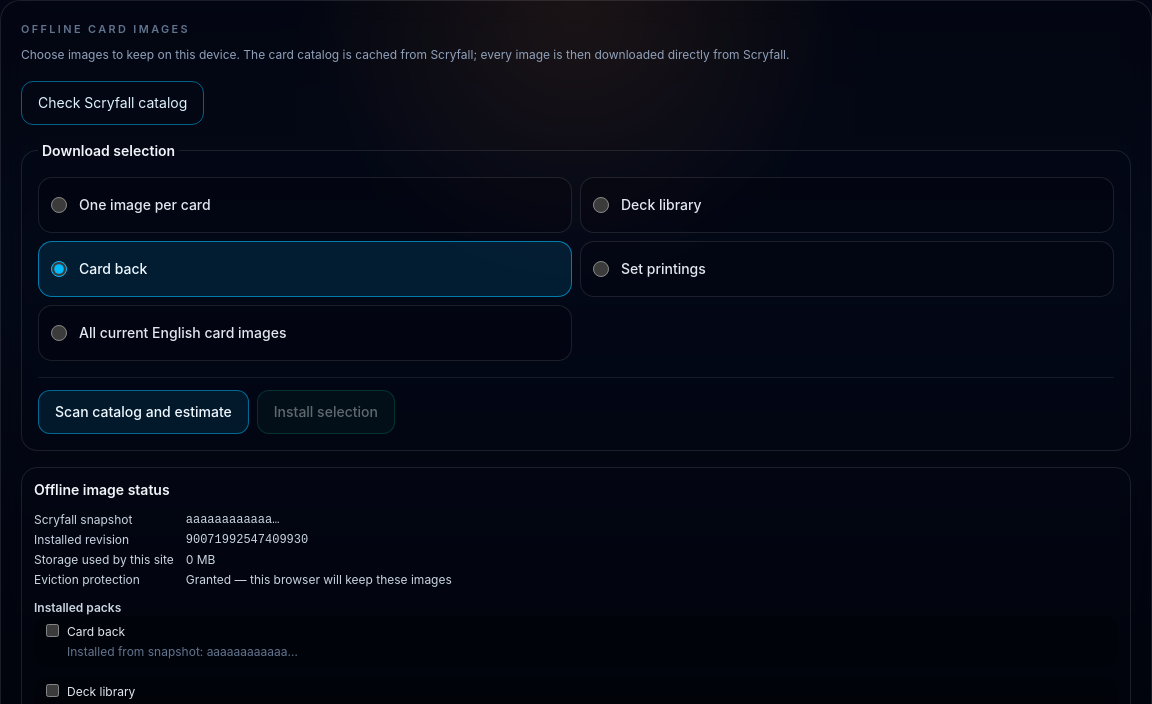
Test case: VisualPackManager initialization › keeps an installed deck library unmeasured when its drift is unavailable
This screenshot has width=1152, height=704.
Expected: the heading "Offline card images" is shown, [21,22,190,36]
Click the radio button labelled "Deck library". click: (601, 205)
box: [593,197,609,213]
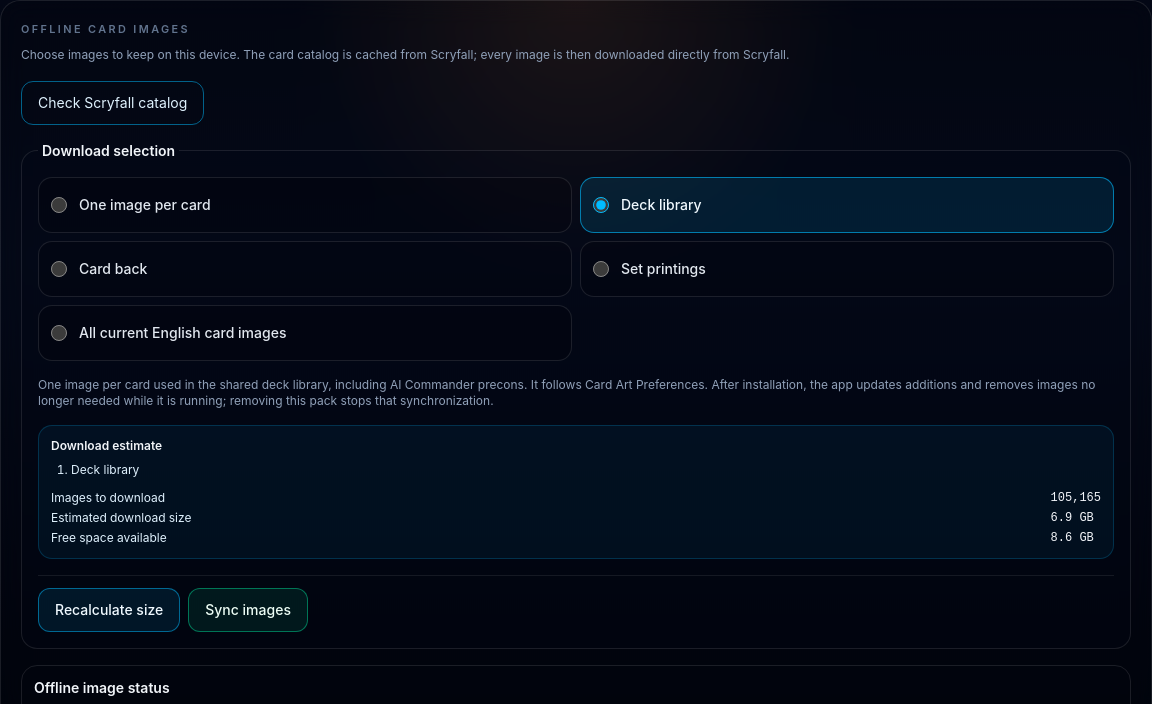
Expected: the button "Sync images" is enabled, [188,588,308,632]
